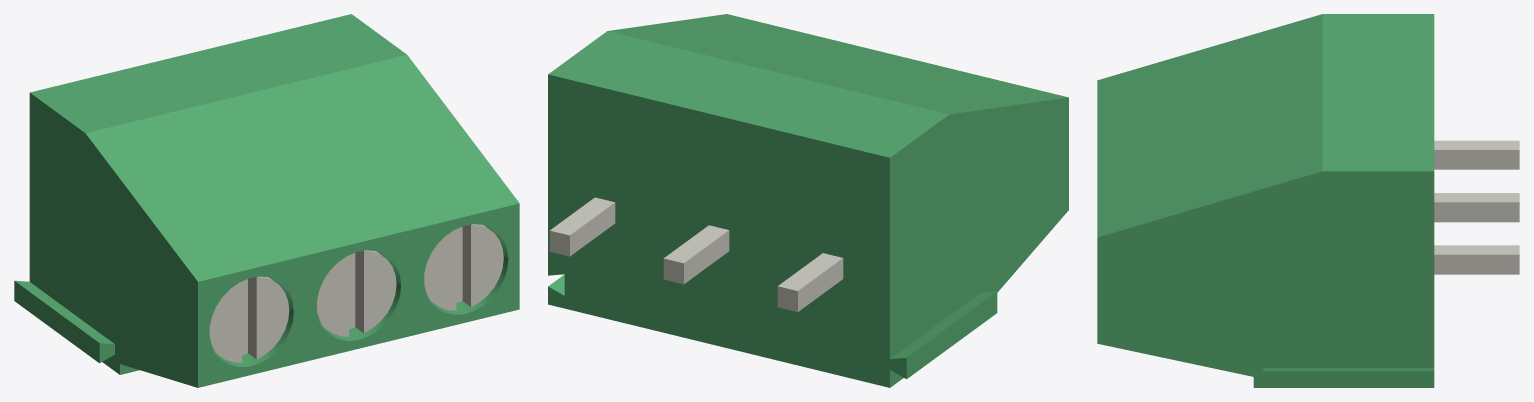
File: TerminalBlock_Phoenix_TerminalBlock_Phoenix_MKDS-1_5-3-5.08_1x03_P5.08mm_Horizontal.glb
3 views of the same model, side by side, from view 1: azimuth 30°, elevation 25°; view 2: azimuth 150°, elevation 25°; view 3: azimuth 270°, elevation 25° (orthographic). The views are drawn at different scales.
Size of the model in its own units: 15.98 by 9.8 by 17.3.
